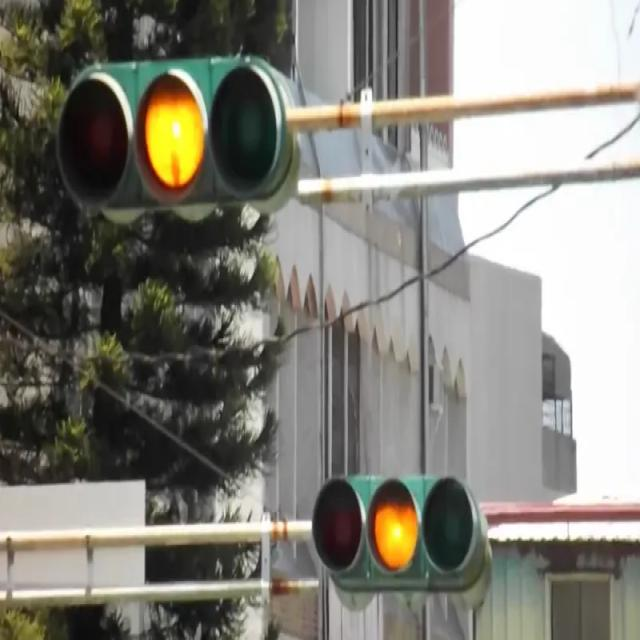yellow light: (59, 65, 286, 198), (319, 482, 480, 589)
